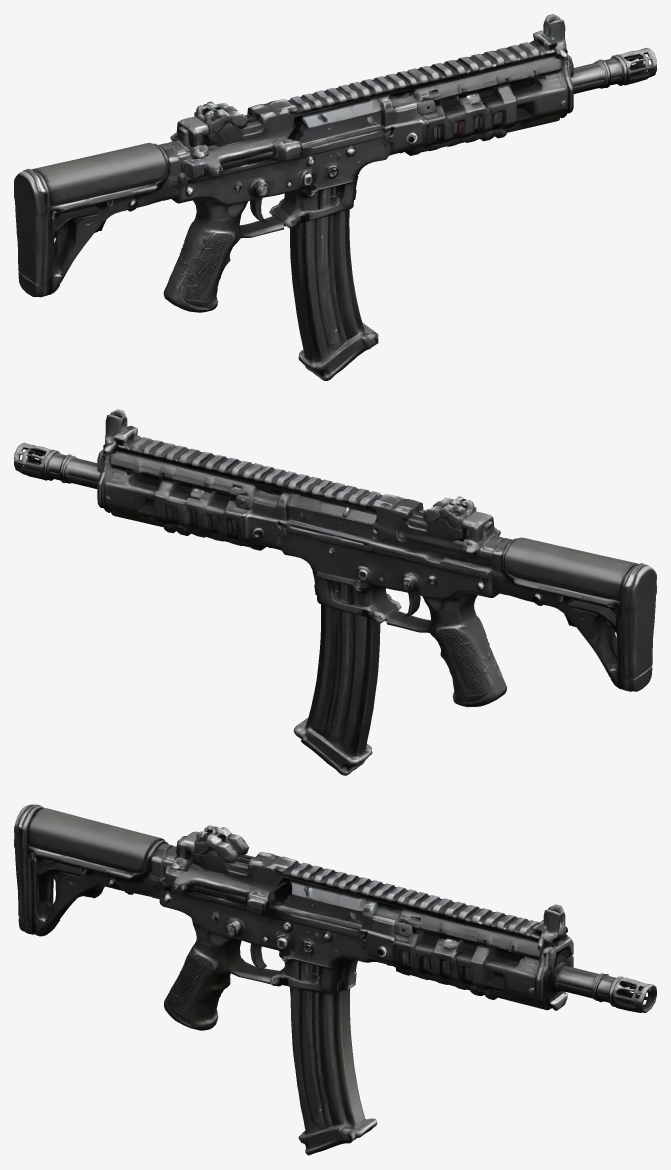
File: rn_unit45.glb
3 renders of one model, top to bottom at view 1: azimuth 30°, elevation 25°; view 2: azimuth 150°, elevation 25°; view 3: azimuth 330°, elevation 25°, orthographic.
Parts seen in each view (by area): view 1: tripo_node_f30e089b-50e6-4f83-a969-c6082966ea5b; view 2: tripo_node_f30e089b-50e6-4f83-a969-c6082966ea5b; view 3: tripo_node_f30e089b-50e6-4f83-a969-c6082966ea5b.
Boxes of the visible parts, left/top/right/bottom form: tripo_node_f30e089b-50e6-4f83-a969-c6082966ea5b: left=14, top=14, right=656, bottom=380; tripo_node_f30e089b-50e6-4f83-a969-c6082966ea5b: left=14, top=409, right=656, bottom=775; tripo_node_f30e089b-50e6-4f83-a969-c6082966ea5b: left=14, top=804, right=656, bottom=1155.
Bounding box in the file's own units: 0.9831 × 0.4472 × 0.1042.
Materials: 1 (1 with a texture image).
